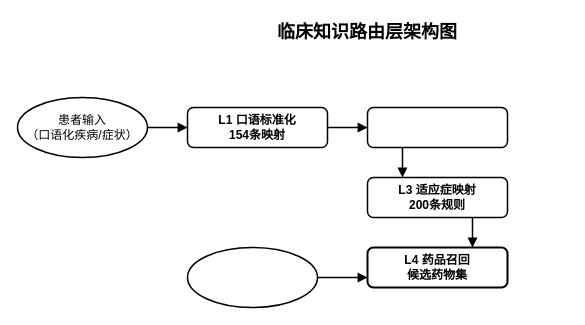
This 585x325 diagram has some shape labels left out. Each missing label, with the box of its shape:
L2 疾病归类 1,495条记录: (366, 106, 508, 148)
候选药物集 → 安全过滤层: (186, 246, 318, 308)
